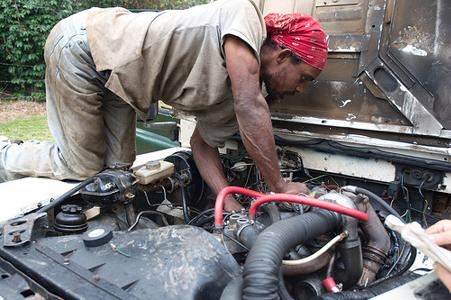person: (1, 1, 329, 214)
